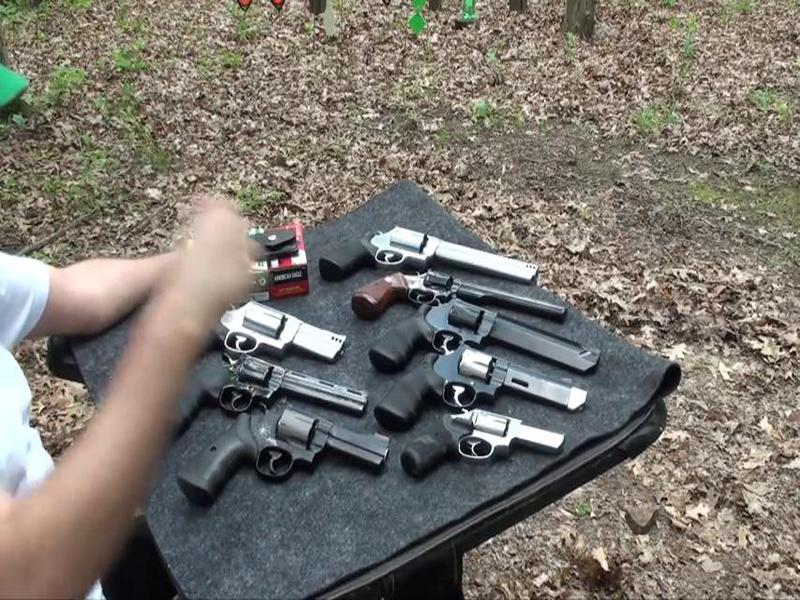Revolver: (398, 399, 578, 486)
